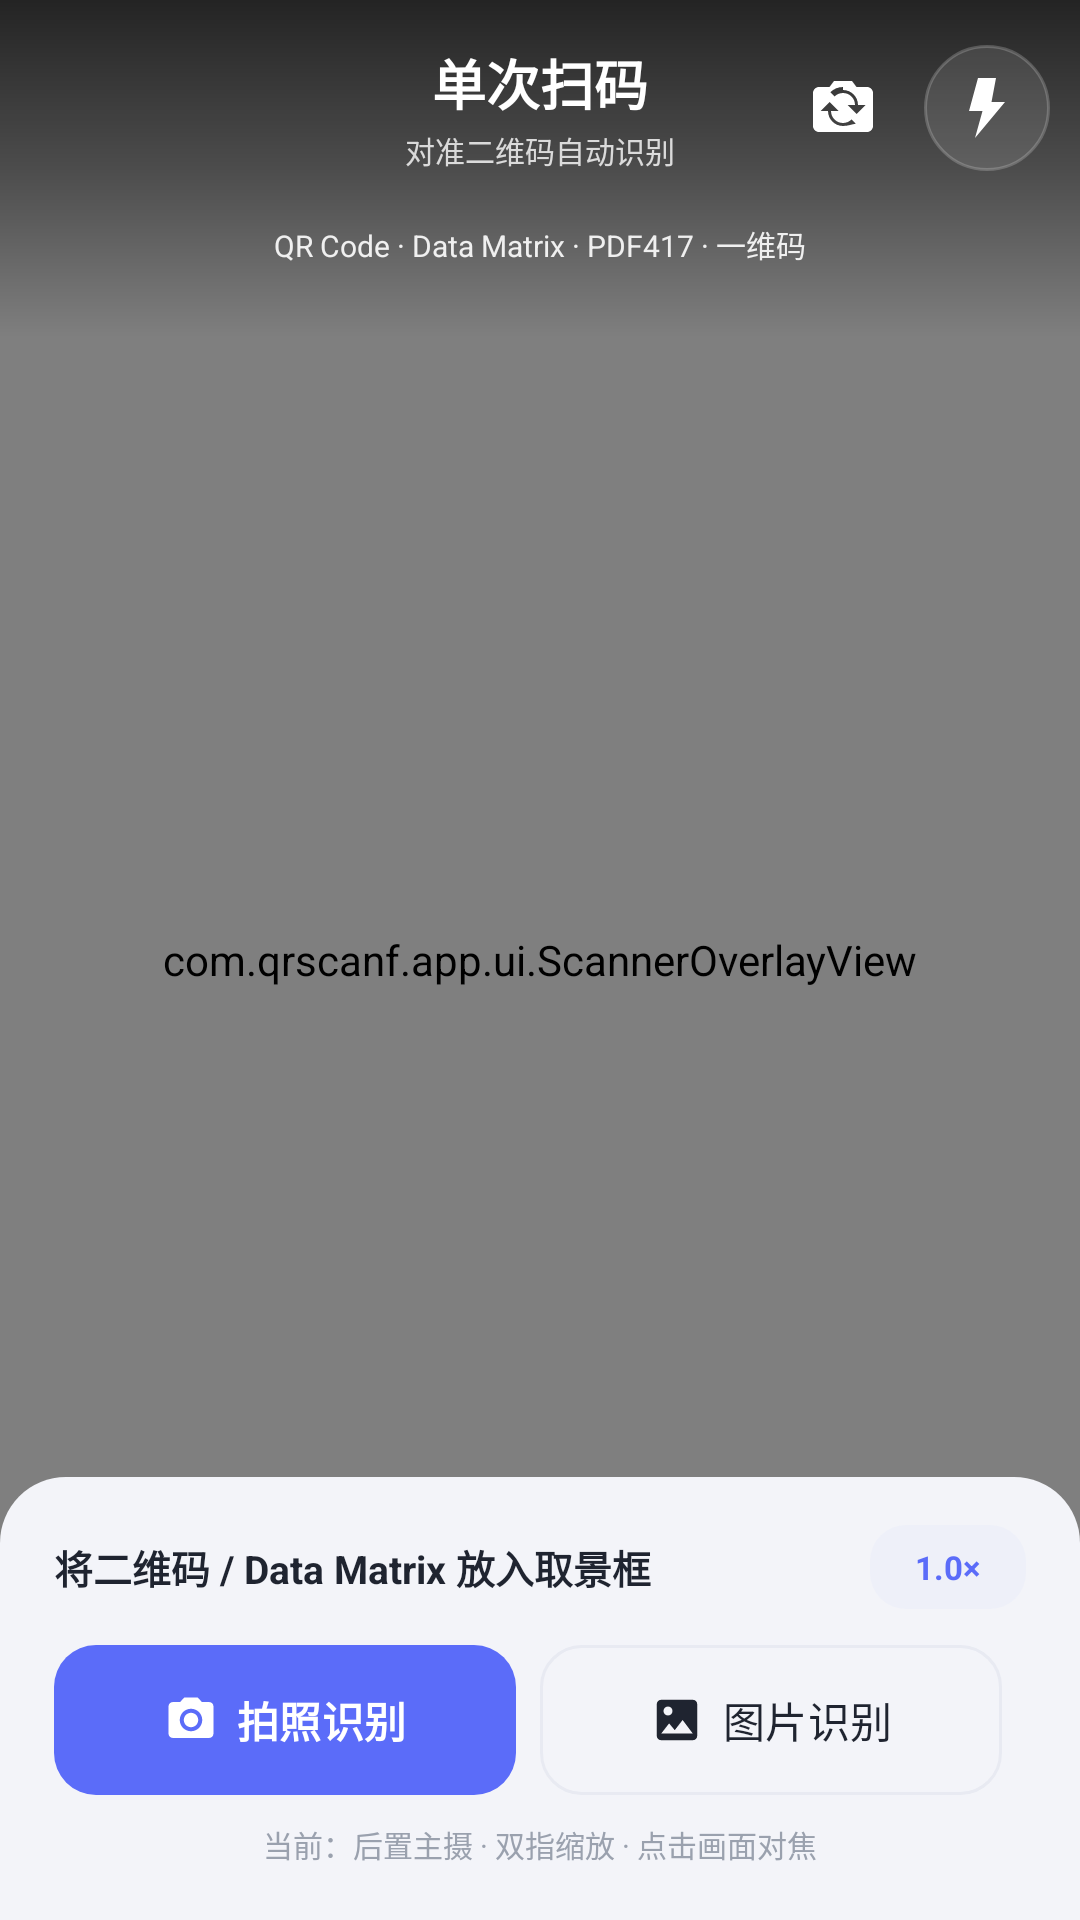

Named icons in this screenshot (1080×1920) and their bounding boxes, (x1, y1, x2, y2):
补光: (924, 47, 1049, 171)
